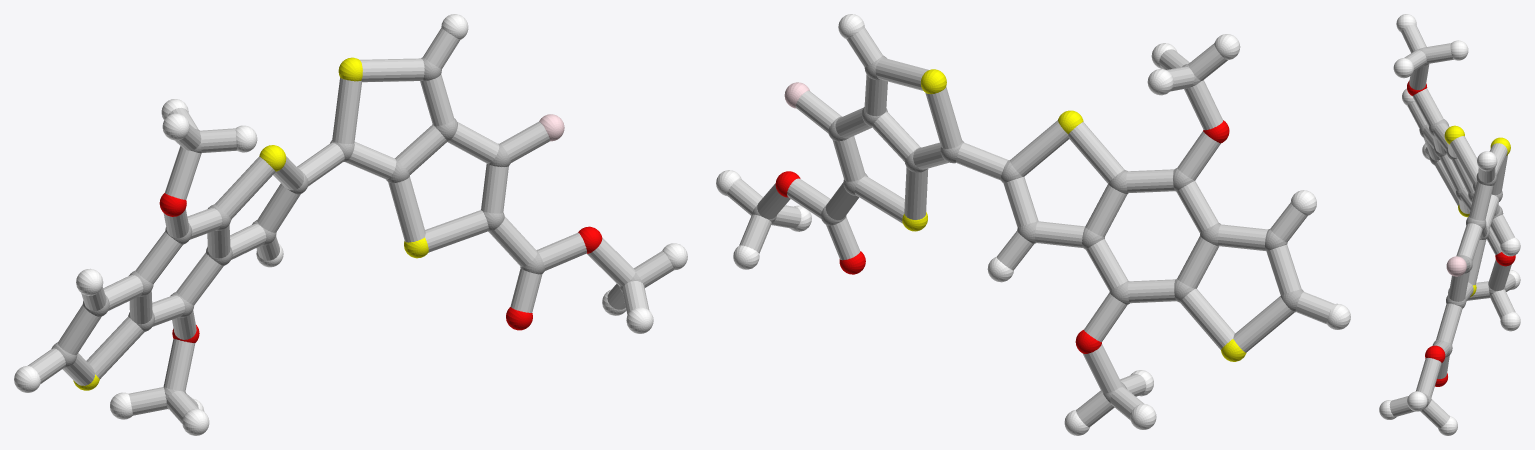
Rendered from Dimethoxy_Benzodithiophene_Phi_20_Theta_140_Methylcarbonyl_3_Fluoro_Thienothiophene.glb.
3 renders of one model, left to right at view 1: azimuth 30°, elevation 25°; view 2: azimuth 150°, elevation 25°; view 3: azimuth 270°, elevation 25°, orthographic. The views are drawn at different scales.
Visible parts, largest first — view 1: grp15205, grp8689, grp1, grp7241, grp13395; view 2: grp15205, grp8689, grp1, grp7241, grp13395; view 3: grp15205, grp8689, grp1, grp13395, grp7241, grp14843.
Boxes of the visible parts, left/top/right/bottom form: grp15205: left=27, top=28, right=673, bottom=423; grp8689: left=14, top=14, right=687, bottom=435; grp1: left=51, top=57, right=642, bottom=409; grp7241: left=73, top=57, right=428, bottom=390; grp13395: left=159, top=193, right=602, bottom=342; grp15205: left=727, top=27, right=1334, bottom=427; grp8689: left=716, top=14, right=1350, bottom=435; grp1: left=751, top=55, right=1303, bottom=403; grp7241: left=902, top=69, right=1246, bottom=361; grp13395: left=775, top=120, right=1229, bottom=353; grp15205: left=1389, top=24, right=1515, bottom=428; grp8689: left=1379, top=14, right=1520, bottom=435; grp1: left=1417, top=47, right=1505, bottom=409; grp13395: left=1407, top=80, right=1515, bottom=386; grp7241: left=1444, top=125, right=1510, bottom=297; grp14843: left=1446, top=256, right=1466, bottom=276.
Size of the model in its own units: 16.79 by 9.26 by 4.17.
